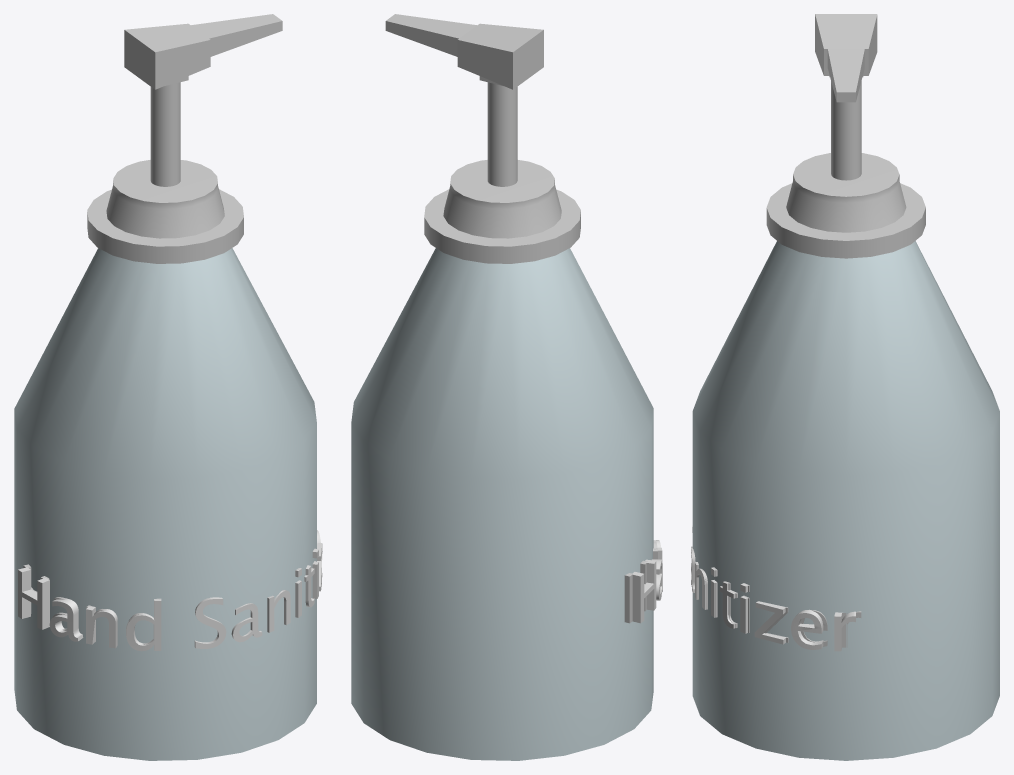
Rendered from Handsanitizer.glb.
3 views of the same model, side by side, from view 1: azimuth 30°, elevation 25°; view 2: azimuth 150°, elevation 25°; view 3: azimuth 270°, elevation 25° (orthographic).
Parts seen in each view (by area): view 1: pCylinder5, typeMesh1_node, pCylinder3, pCube5, pCylinder2, pCylinder4, typeMesh1; view 2: pCylinder5, pCylinder3, pCube5, pCylinder2, pCylinder4, typeMesh1_node, typeMesh1; view 3: pCylinder5, pCylinder3, pCylinder2, pCube5, typeMesh1_node, pCylinder4, typeMesh1.
Part boxes in pixels (left/top/right/bottom): pCylinder5: left=14, top=248, right=316, bottom=760; typeMesh1_node: left=18, top=530, right=322, bottom=651; pCylinder3: left=106, top=160, right=224, bottom=238; pCube5: left=124, top=14, right=282, bottom=89; pCylinder2: left=87, top=189, right=243, bottom=263; pCylinder4: left=150, top=82, right=180, bottom=186; typeMesh1: left=23, top=548, right=315, bottom=649; pCylinder5: left=351, top=248, right=653, bottom=760; pCylinder3: left=443, top=160, right=561, bottom=238; pCube5: left=385, top=14, right=543, bottom=89; pCylinder2: left=424, top=189, right=580, bottom=263; pCylinder4: left=487, top=82, right=517, bottom=186; typeMesh1_node: left=632, top=540, right=662, bottom=623; typeMesh1: left=624, top=541, right=657, bottom=623; pCylinder5: left=692, top=241, right=999, bottom=760; pCylinder3: left=786, top=153, right=906, bottom=232; pCylinder2: left=766, top=183, right=925, bottom=258; pCube5: left=815, top=14, right=877, bottom=102; typeMesh1_node: left=691, top=526, right=855, bottom=651; pCylinder4: left=831, top=81, right=861, bottom=180; typeMesh1: left=691, top=546, right=861, bottom=647.
Bounding box in the file's own units: 5.71 × 12.78 × 5.34.
